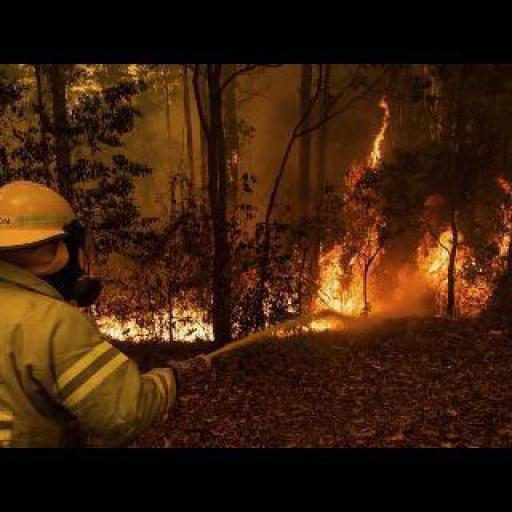smoke: (275, 94, 392, 334), (419, 178, 509, 318), (88, 291, 214, 341)
